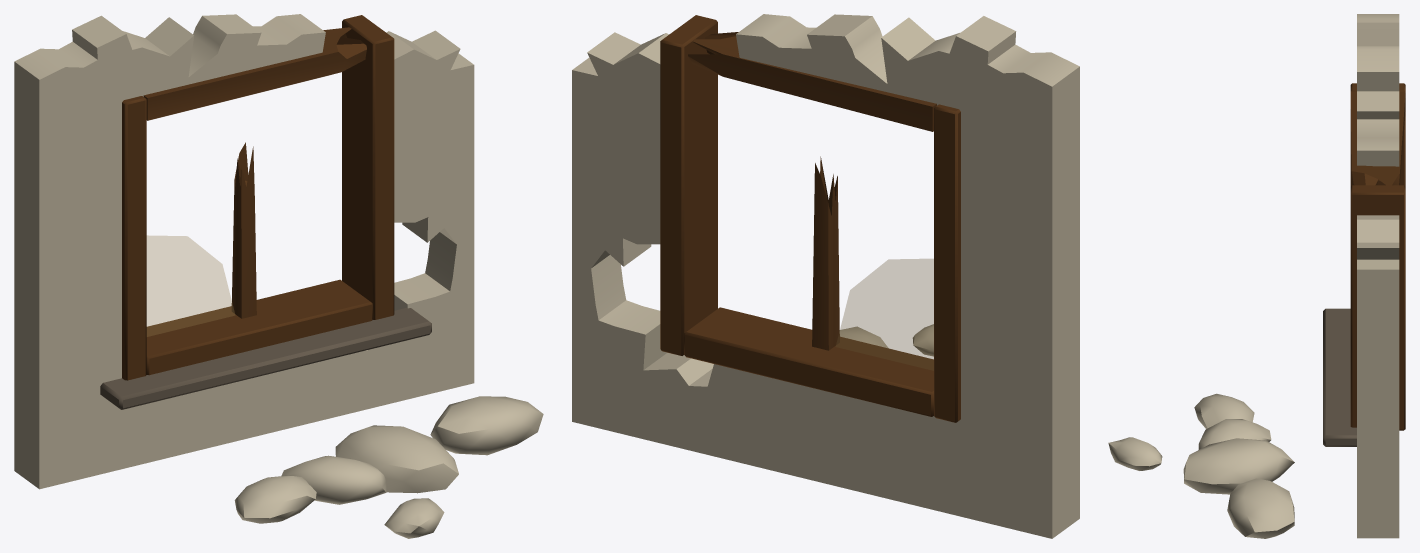
Rendered from wand_fenster_1x1_kaputt.glb.
The picture shows the model from 3 angles, left to right: view 1: azimuth 30°, elevation 25°; view 2: azimuth 150°, elevation 25°; view 3: azimuth 270°, elevation 25°; orthographic projection. The views are drawn at different scales.
Visible parts, largest first — view 1: wand_fenster_1x1_kaputt; view 2: wand_fenster_1x1_kaputt; view 3: wand_fenster_1x1_kaputt.
Boxes of the visible parts, box(x1,y1,x2,y2) form: wand_fenster_1x1_kaputt: box(14, 14, 543, 538); wand_fenster_1x1_kaputt: box(572, 14, 1079, 538); wand_fenster_1x1_kaputt: box(1108, 14, 1405, 538).
Size of the model in its own units: 1.02 by 0.9845 by 0.7021.
